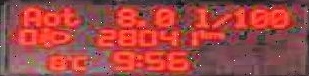-: (134, 17, 145, 26)
0: (267, 7, 289, 28), (152, 6, 174, 25), (16, 26, 36, 46), (249, 7, 265, 28), (136, 27, 154, 44)
1: (231, 6, 245, 30), (187, 30, 196, 46)
2: (96, 27, 114, 46)
4: (158, 30, 176, 46)
5: (143, 50, 165, 71)
6: (165, 50, 191, 70)
8: (114, 6, 134, 26), (116, 27, 134, 46), (47, 54, 65, 70)
9: (110, 50, 132, 70)
X: (58, 6, 83, 26), (189, 3, 207, 27), (18, 5, 38, 25), (209, 11, 229, 27), (40, 11, 58, 26), (71, 55, 87, 70), (134, 52, 143, 67), (207, 31, 222, 38), (198, 29, 207, 39)
